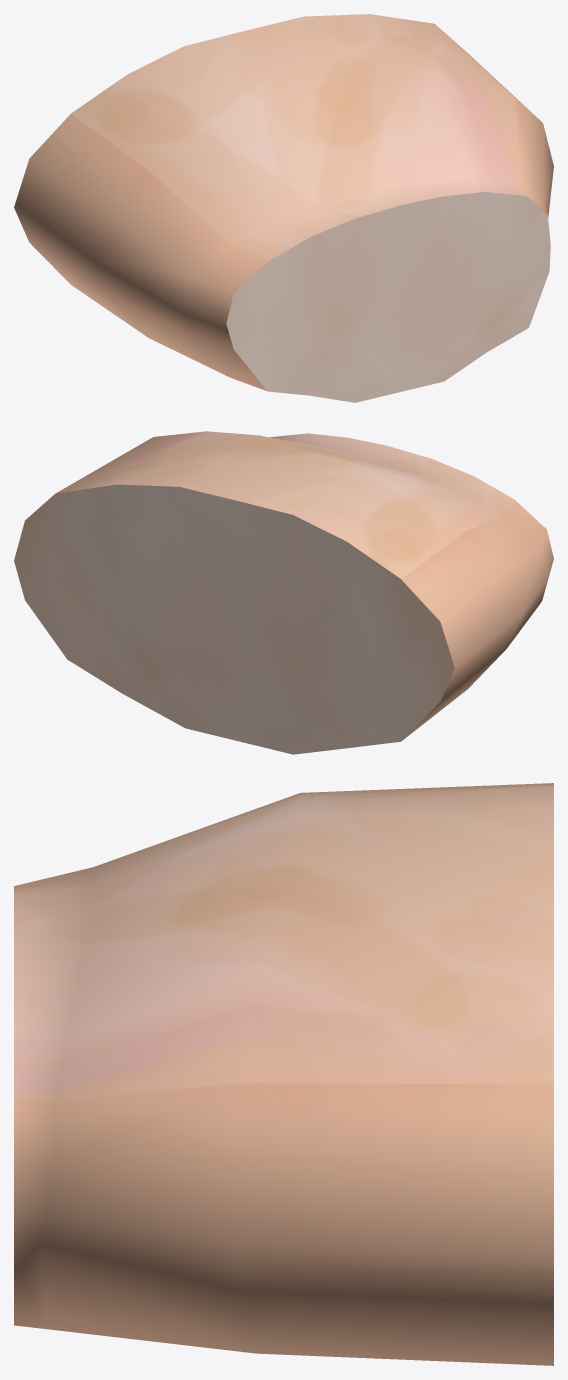
Rendered from chicken_breast_03.fbx.
3 renders of one model, top to bottom at view 1: azimuth 30°, elevation 25°; view 2: azimuth 150°, elevation 25°; view 3: azimuth 270°, elevation 25°, orthographic. The views are drawn at different scales.
Parts seen in each view (by area): view 1: chicken_breast_03; view 2: chicken_breast_03; view 3: chicken_breast_03.
Boxes of the visible parts, x1,y1,x2,y2 form: chicken_breast_03: (14,14,553,402); chicken_breast_03: (14,431,553,754); chicken_breast_03: (14,783,553,1365).
Size of the model in its own units: 4.96 by 2.58 by 2.93.
